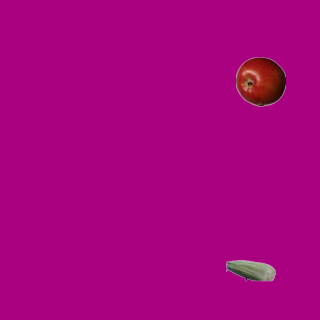Apple Braeburn: (235, 56, 285, 106)
Corn Husk: (225, 245, 275, 295)
